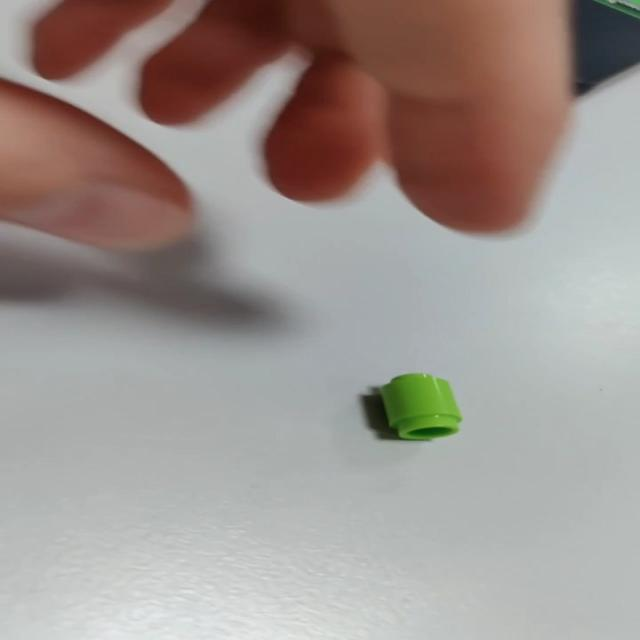S1x1x1: (372, 372, 466, 442)
